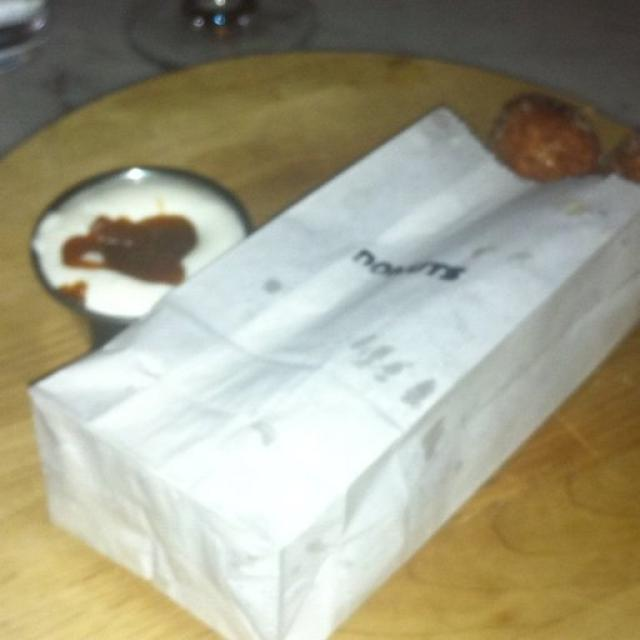Donuts: (501, 89, 609, 203)
